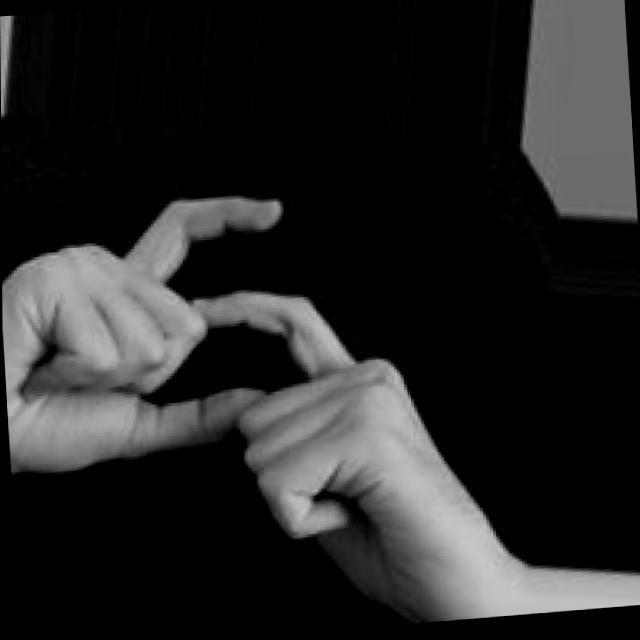G: (1, 168, 507, 640)
